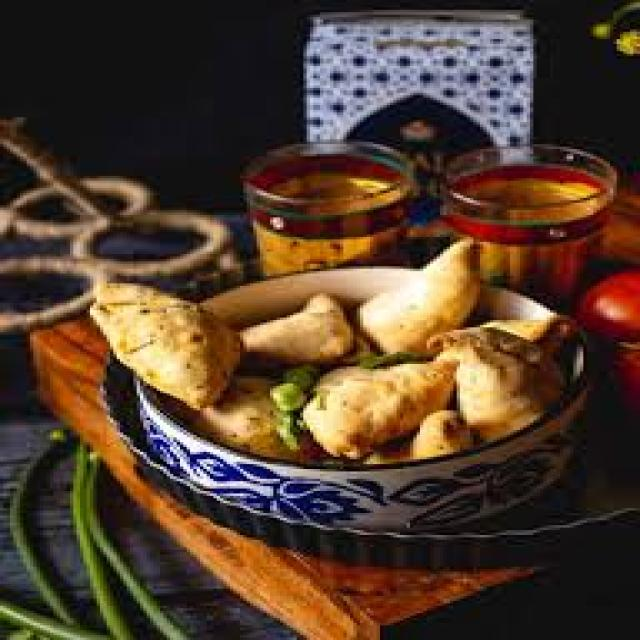SAMOSA: (90, 286, 237, 408), (300, 362, 453, 457), (437, 325, 557, 440), (360, 239, 477, 349), (360, 242, 477, 349), (193, 379, 303, 457), (240, 296, 350, 362), (410, 410, 470, 457), (0, 161, 37, 198)
